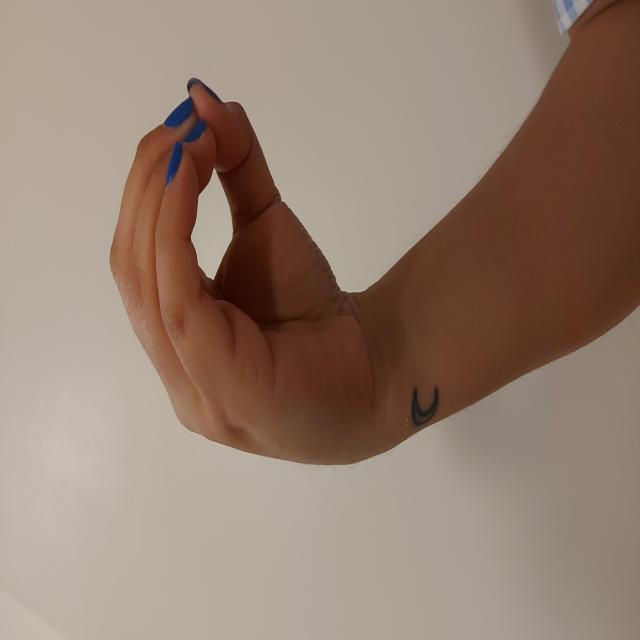O: (172, 106, 566, 374)
